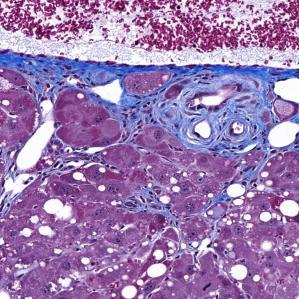fibrosis: (157, 67, 275, 144), (16, 51, 131, 106), (126, 186, 169, 214)
